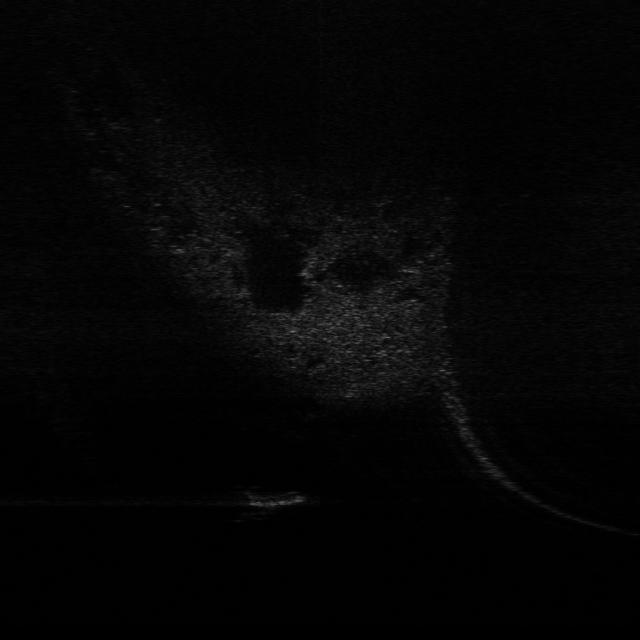cube: (229, 482, 317, 520)
